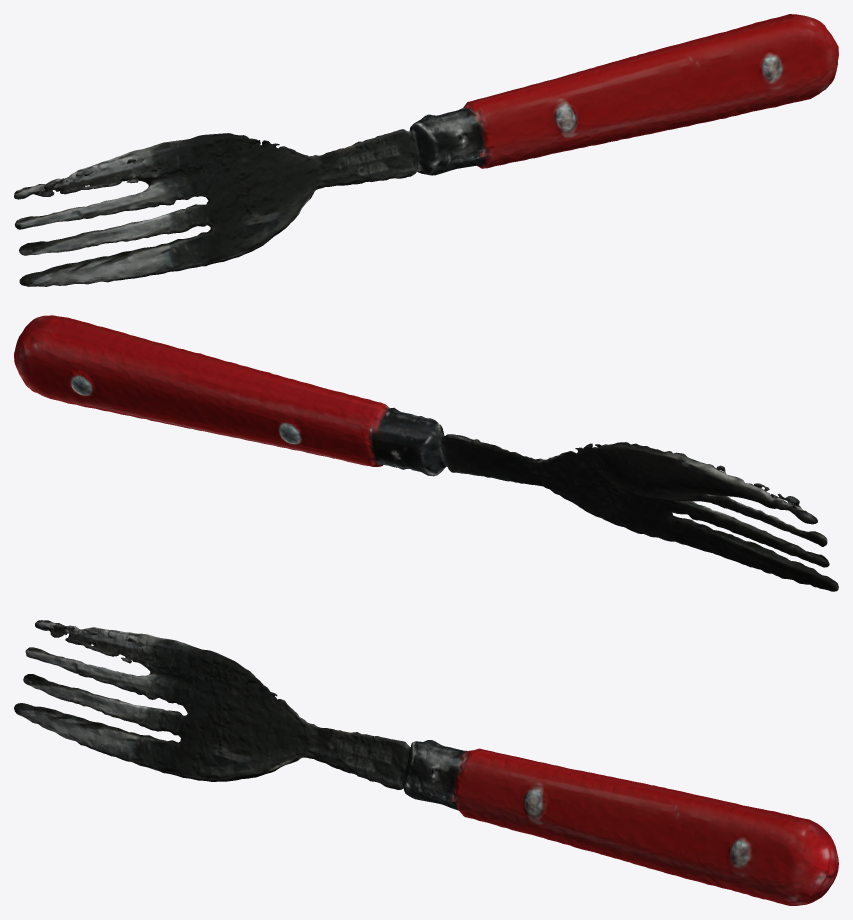
File: fork.glb
The picture shows the model from 3 angles, top to bottom: view 1: azimuth 30°, elevation 25°; view 2: azimuth 150°, elevation 25°; view 3: azimuth 330°, elevation 25°; orthographic projection.
Visible parts, largest first — view 1: textured.obj; view 2: textured.obj; view 3: textured.obj.
Part boxes in pixels (left/top/right/bottom): textured.obj: left=14, top=14, right=838, bottom=286; textured.obj: left=14, top=315, right=838, bottom=591; textured.obj: left=14, top=620, right=838, bottom=905.
Size of the model in its own units: 0.1978 by 0.0256 by 0.0155.
1 material, 1 textured.
